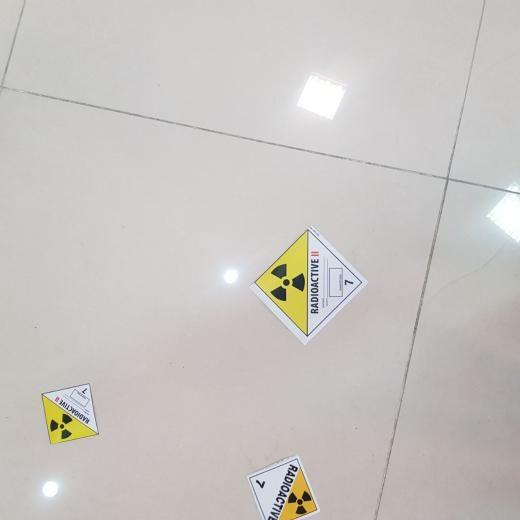radioactive: (254, 229, 362, 336), (246, 454, 318, 520), (43, 381, 98, 446)
